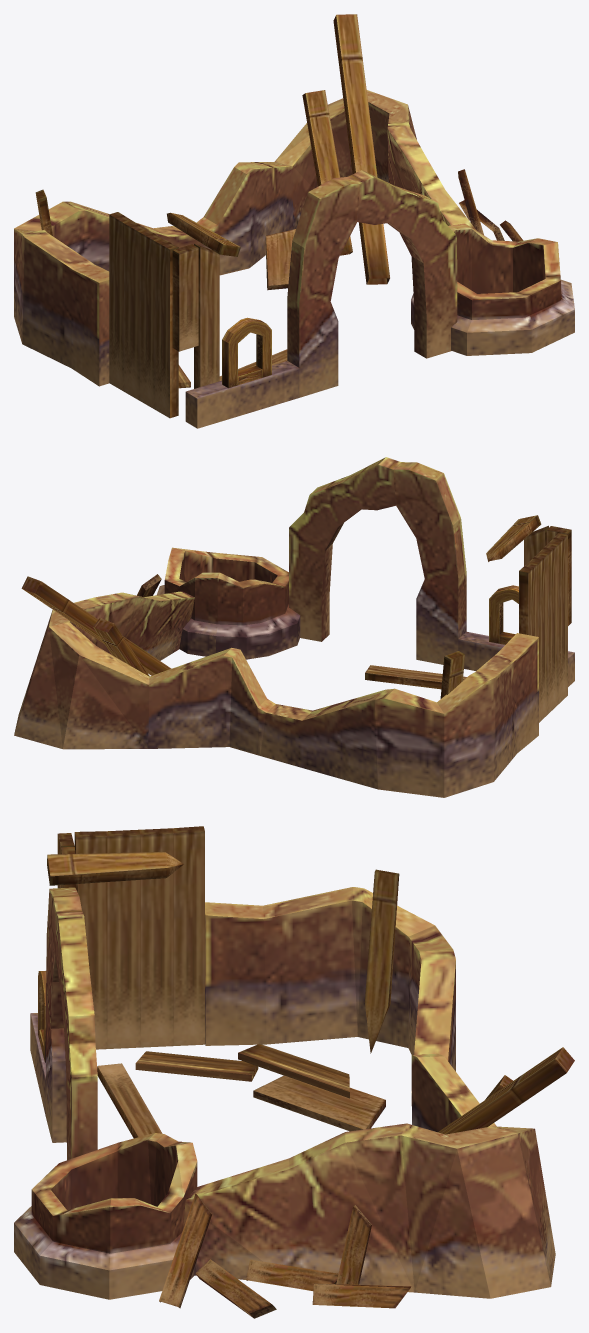
Rendered from feixu01.FBX.
The picture shows the model from 3 angles, top to bottom: view 1: azimuth 30°, elevation 25°; view 2: azimuth 150°, elevation 25°; view 3: azimuth 270°, elevation 25°; orthographic projection. The views are drawn at different scales.
Parts seen in each view (by area): view 1: 对象058; view 2: 对象058; view 3: 对象058.
Boxes of the visible parts, box(x1,y1,x2,y2) form: 对象058: box(14, 14, 574, 428); 对象058: box(14, 457, 574, 797); 对象058: box(14, 826, 574, 1318).
Bounding box in the file's own units: 185 × 76.17 × 148.
